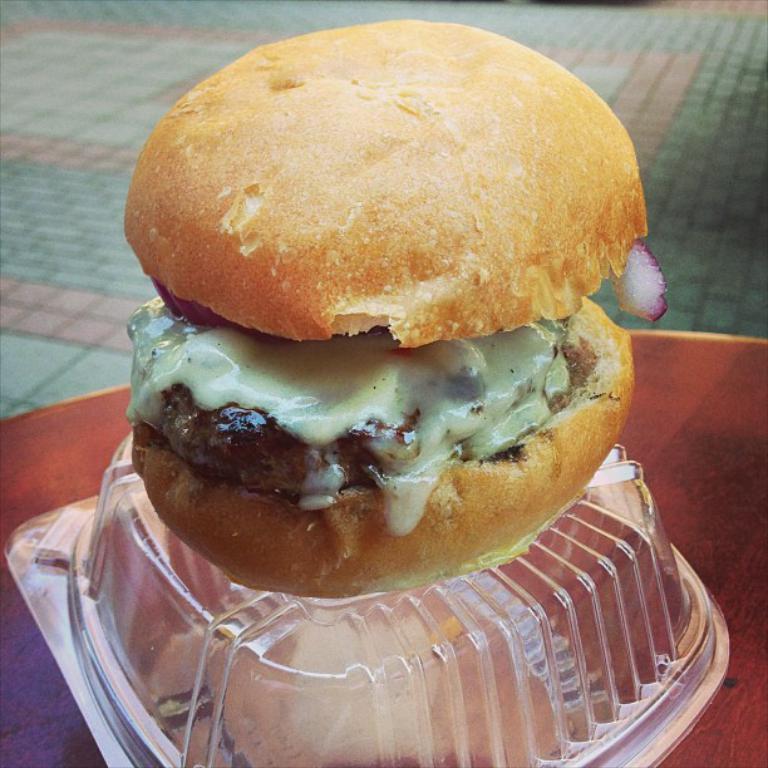Hamburger: (119, 16, 663, 592)
